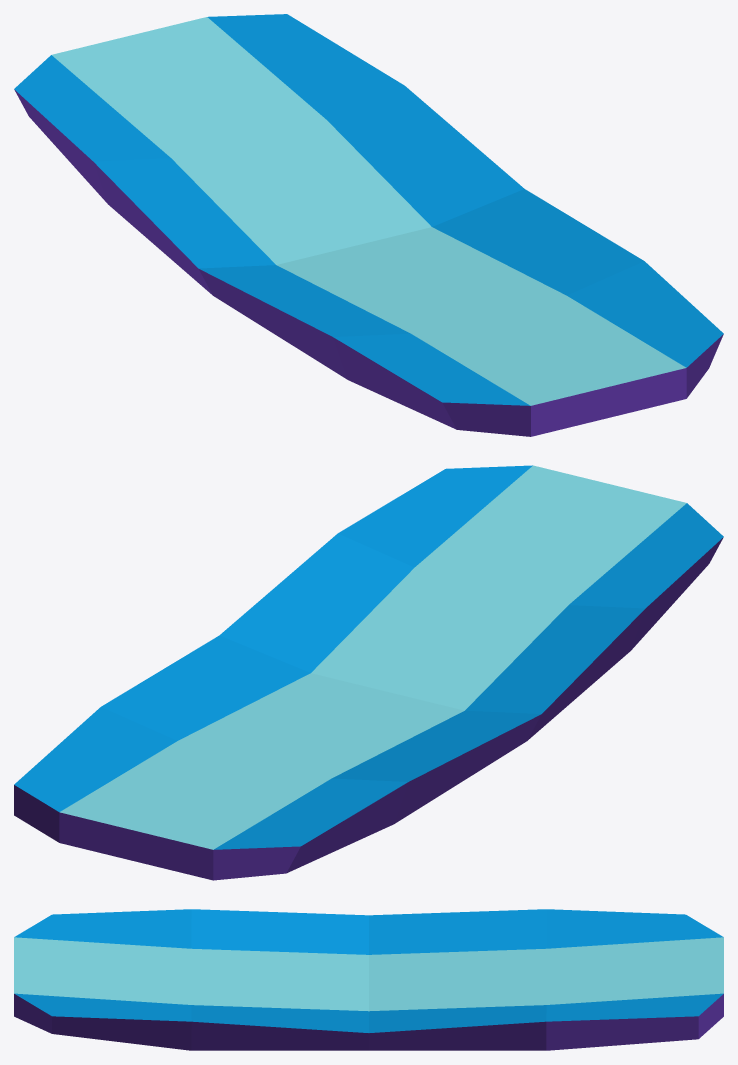
The picture shows the model from 3 angles, top to bottom: view 1: azimuth 30°, elevation 25°; view 2: azimuth 150°, elevation 25°; view 3: azimuth 270°, elevation 25°; orthographic projection. The views are drawn at different scales.
Visible parts, largest first — view 1: mesh_1874284659; view 2: mesh_1874284659; view 3: mesh_1874284659.
Part boxes in pixels (x1=…): mesh_1874284659: x1=14, y1=14, x2=723, y2=436; mesh_1874284659: x1=14, y1=465, x2=723, y2=880; mesh_1874284659: x1=14, y1=909, x2=723, y2=1050.
Size of the model in its own units: 22 by 3 by 56.
